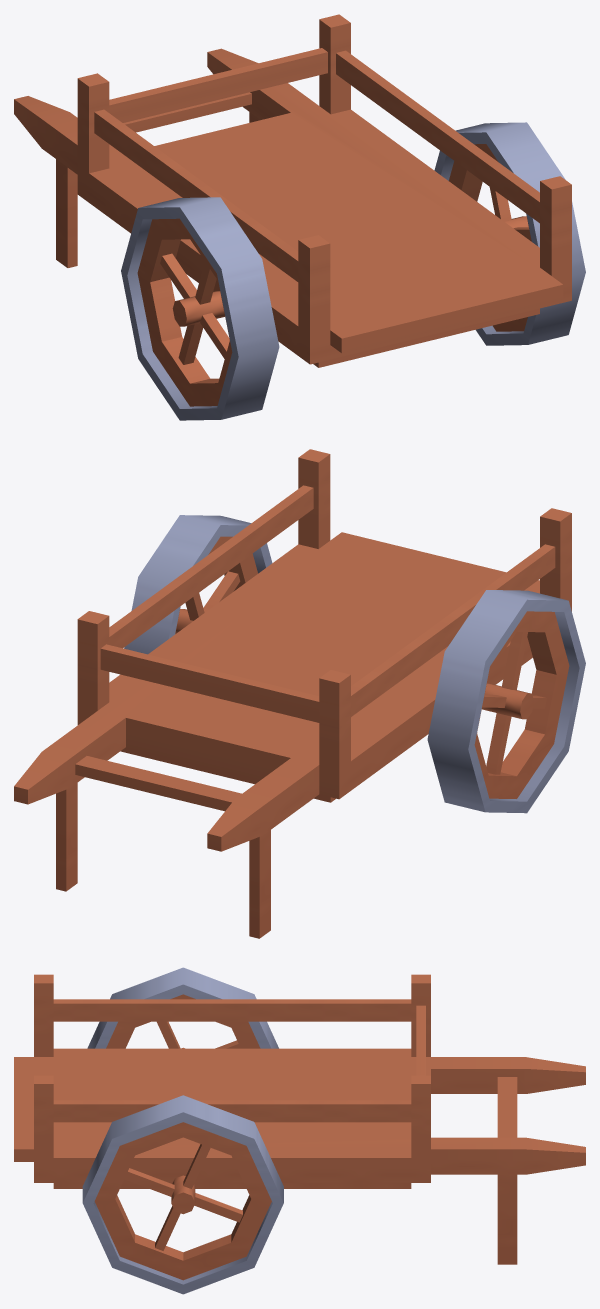
File: cart.fbx
3 views of the same model, one above another, from view 1: azimuth 30°, elevation 25°; view 2: azimuth 150°, elevation 25°; view 3: azimuth 270°, elevation 25° (orthographic). The views are drawn at different scales.
Parts seen in each view (by area): view 1: cart, wheel.001, wheel.002; view 2: cart, wheel.001, wheel.002; view 3: cart, wheel.002, wheel.001.
Boxes of the visible parts, x1,y1,x2,y2 form: cart: (14, 14, 571, 367); wheel.001: (121, 197, 279, 420); wheel.002: (434, 122, 585, 345); cart: (14, 449, 571, 938); wheel.001: (427, 590, 585, 813); wheel.002: (124, 515, 272, 654); cart: (14, 974, 585, 1264); wheel.002: (82, 1095, 283, 1294); wheel.001: (87, 967, 278, 1048).
Bounding box in the file's own units: 0.8623 × 1.44 × 0.5355.
